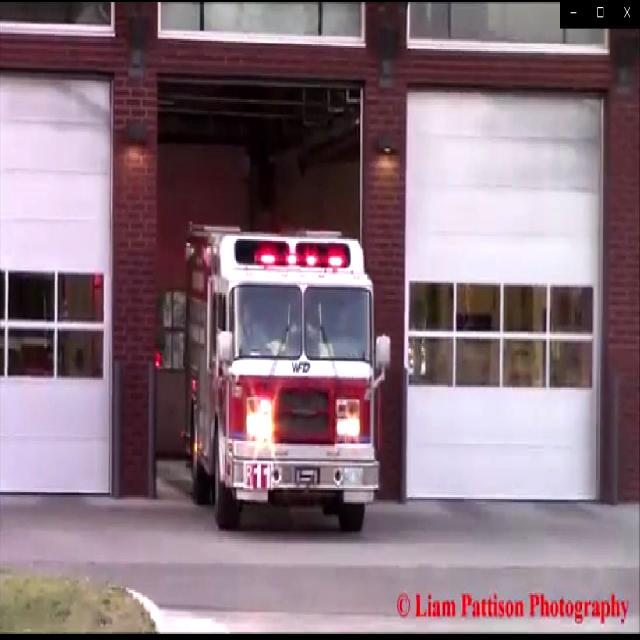emergency: (183, 222, 392, 540)
